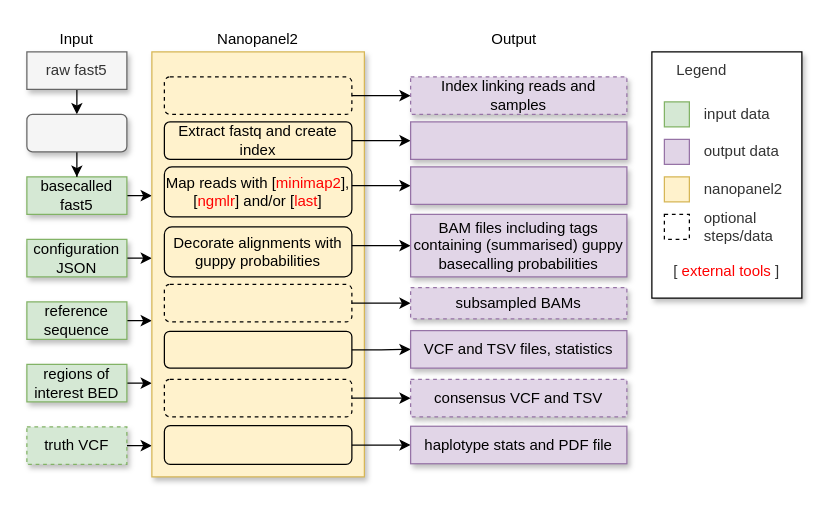
This 831x508 diagram has some shape labels left out. The centre of each missing label's shape, as x and y in pixels:
"[ guppy 3.6.1 ]" belongs at (x=77, y=134).
"BAM files" belongs at (x=519, y=187).
"Calculate consensus VCF" belongs at (x=257, y=397).
"Calculate haplotypes" belongs at (x=257, y=444).
"Demultiplexing [ Porechop ]" belongs at (x=257, y=95).
"Downsample alignments" belongs at (x=257, y=302).
"FASTQ files and index linking reads and fast5 files" belongs at (x=519, y=142).
"Parallel variant calling" belongs at (x=257, y=349).
